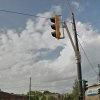Traffic light: (48, 3, 66, 44)
